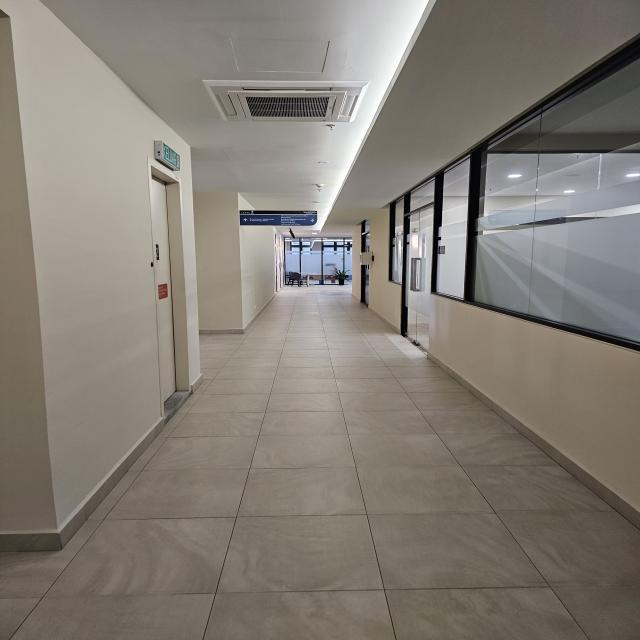footpath: (176, 362, 487, 638)
